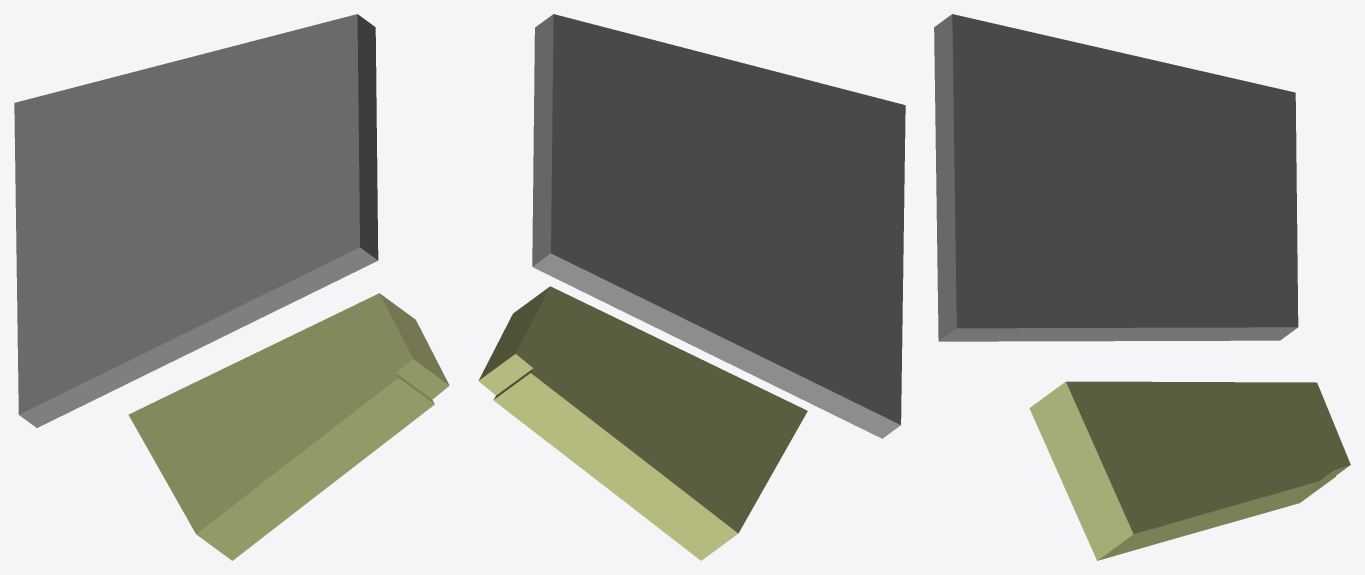
3 views of the same model, side by side, from view 1: azimuth 30°, elevation 25°; view 2: azimuth 150°, elevation 25°; view 3: azimuth 330°, elevation 25° (orthographic). The views are drawn at different scales.
Visible parts, largest first — view 1: 0_3_2_2_0; view 2: 0_3_2_2_0; view 3: 0_3_2_2_0.
Boxes of the visible parts, box(x1,y1,x2,y2) form: 0_3_2_2_0: box(14, 14, 449, 560); 0_3_2_2_0: box(478, 14, 905, 560); 0_3_2_2_0: box(934, 14, 1350, 560).
Bounding box in the file's own units: 37.94 × 43.71 × 6.05.
